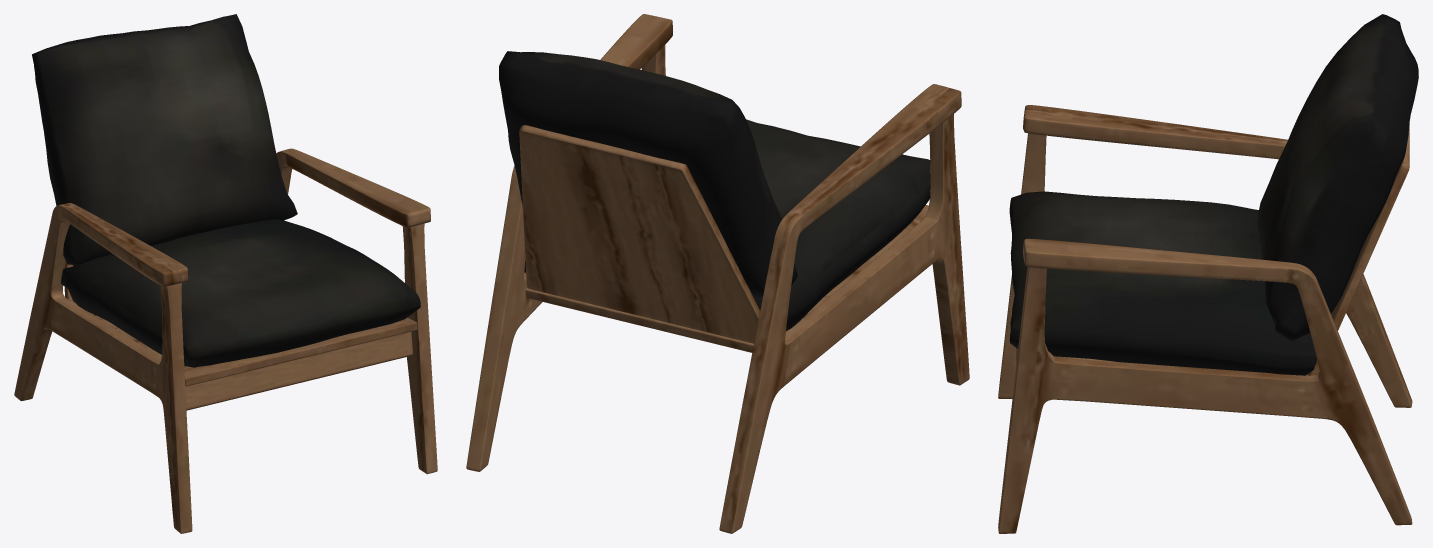
File: modern_arm_chair_01_1k.gltf
3 views of the same model, side by side, from view 1: azimuth 30°, elevation 25°; view 2: azimuth 150°, elevation 25°; view 3: azimuth 270°, elevation 25° (orthographic). The views are drawn at different scales.
Parts seen in each view (by area): view 1: modern_arm_chair_01; view 2: modern_arm_chair_01; view 3: modern_arm_chair_01.
Part boxes in pixels (left/top/right/bottom): modern_arm_chair_01: left=14, top=14, right=437, bottom=533; modern_arm_chair_01: left=466, top=14, right=969, bottom=533; modern_arm_chair_01: left=998, top=14, right=1418, bottom=533.
Size of the model in its own units: 0.8203 by 1.02 by 0.9866.
Materials: 2 (2 with a texture image).
